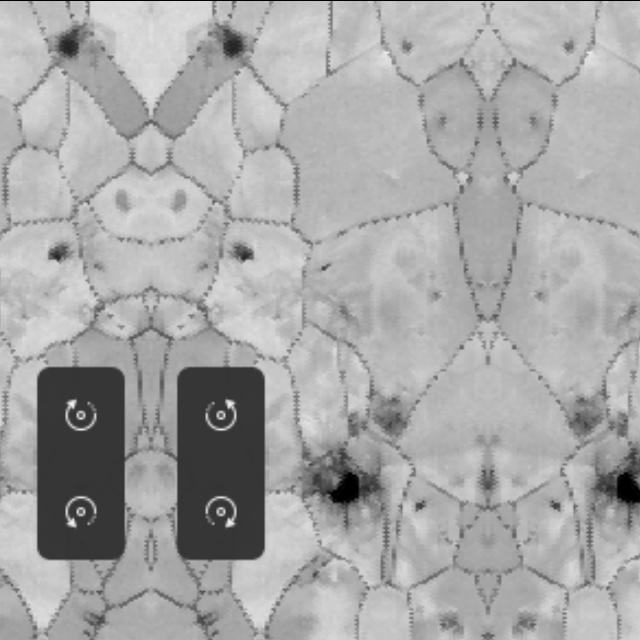good_void: (329, 385, 420, 458), (319, 460, 369, 506), (52, 15, 88, 61), (216, 16, 251, 61), (609, 460, 640, 506), (46, 238, 80, 271), (106, 184, 138, 219), (223, 239, 256, 272), (166, 184, 191, 214), (395, 31, 420, 61), (558, 31, 582, 62), (423, 277, 448, 306), (512, 609, 542, 631), (77, 607, 107, 629), (437, 609, 466, 631), (197, 608, 225, 629), (532, 278, 551, 304), (438, 105, 453, 133), (525, 105, 540, 133), (411, 496, 435, 513), (543, 496, 567, 513), (314, 259, 339, 274), (195, 256, 212, 274), (91, 256, 108, 274), (480, 466, 489, 494), (489, 467, 497, 494), (114, 319, 127, 332), (176, 320, 189, 332), (187, 311, 197, 318), (106, 311, 116, 318)
